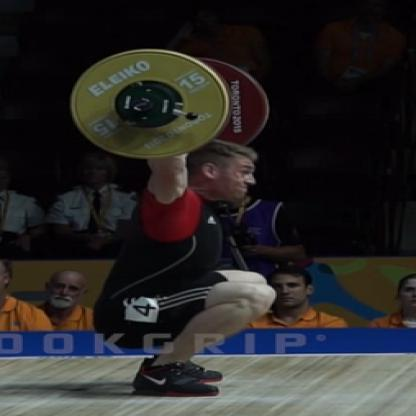barbell: (70, 47, 270, 157)
